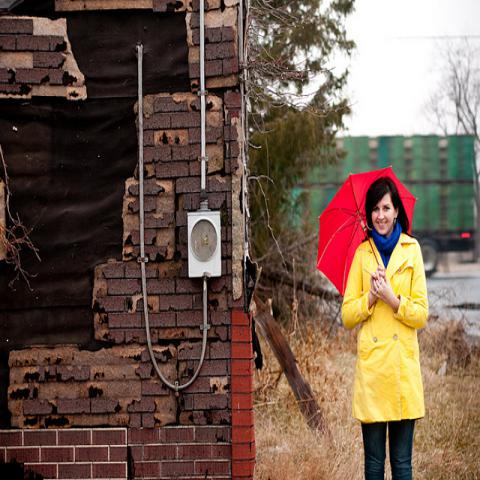truck: (314, 136, 477, 275)
